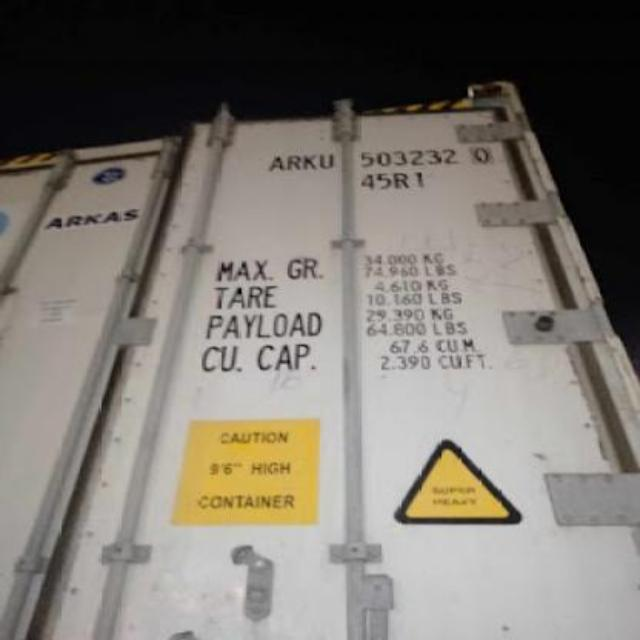0: (470, 144, 490, 166), (378, 150, 392, 166)
2: (438, 147, 459, 167), (408, 147, 426, 167)
3: (390, 148, 410, 168), (426, 147, 439, 167)
5: (358, 150, 376, 168)
A: (274, 156, 284, 172)
K: (306, 153, 318, 171)
R: (288, 154, 304, 170)
U: (318, 152, 336, 168)
